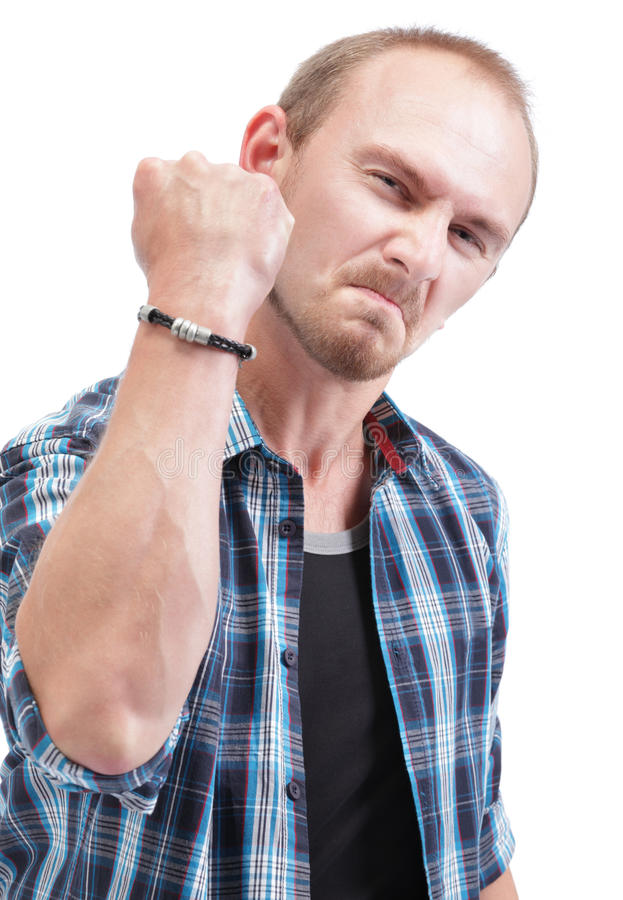angry: (294, 108, 510, 393)
